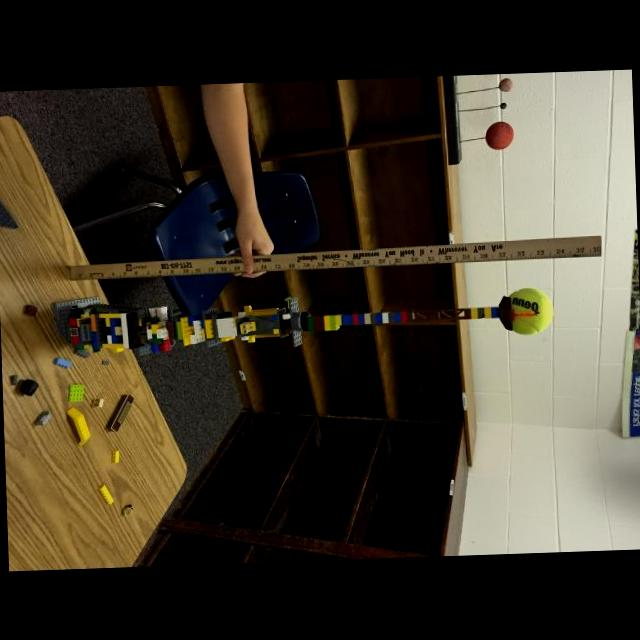Tennis Ball: (509, 286, 552, 333)
